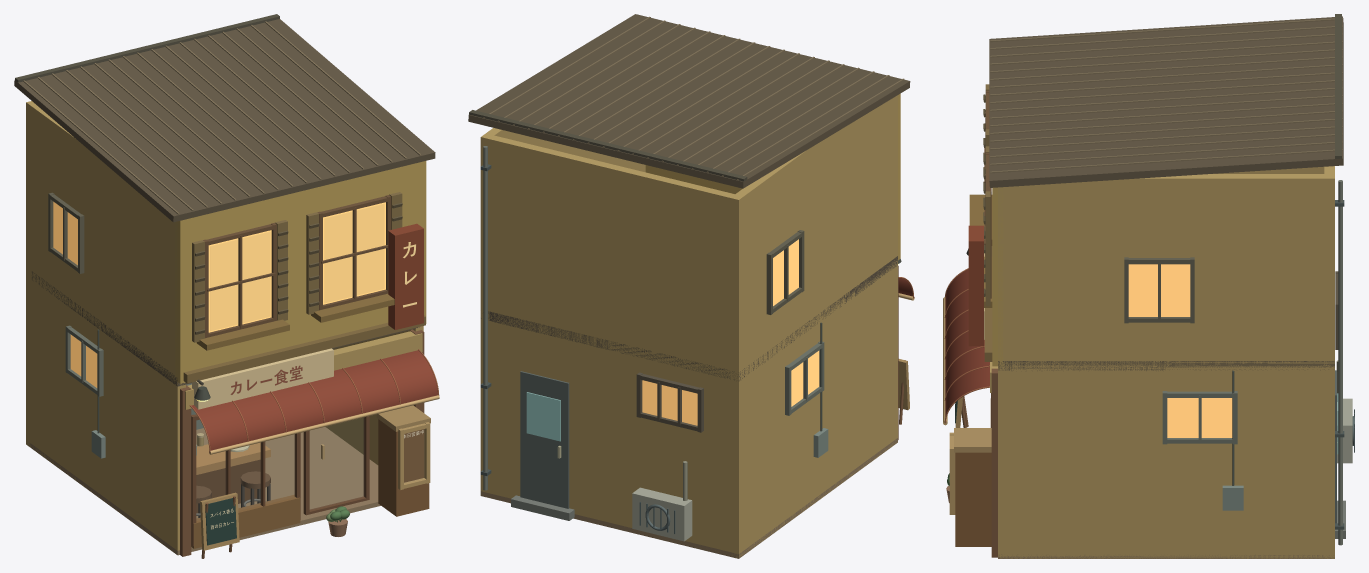
The model's file is curry.glb.
3 views of the same model, side by side, from view 1: azimuth 30°, elevation 25°; view 2: azimuth 150°, elevation 25°; view 3: azimuth 270°, elevation 25° (orthographic). The views are drawn at different scales.
Parts seen in each view (by area): view 1: 雨日咖喱食堂, Group_283; view 2: 雨日咖喱食堂, Group_258, Group_283; view 3: 雨日咖喱食堂, Group_298, Group_258.
Part boxes in pixels (x1,y1,x2,y2): 雨日咖喱食堂: (14,14,439,558); Group_283: (48,192,105,458); 雨日咖喱食堂: (468,14,914,558); Group_258: (480,146,703,541); Group_283: (766,230,828,457); 雨日咖喱食堂: (943,14,1343,558); Group_298: (1124,257,1243,510); Group_258: (1335,180,1354,545).
Size of the model in its own units: 4.79 by 6.4 by 5.87.
Materials: 97 (15 with a texture image).
